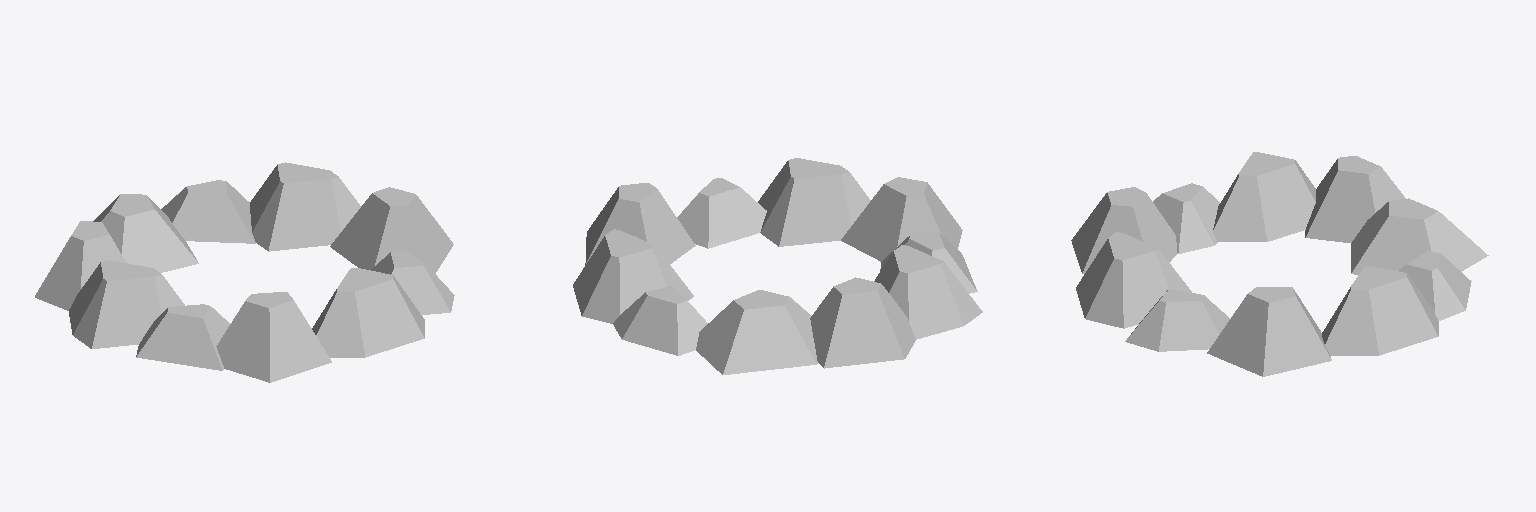
File: campfire_stones.obj
3 views of the same model, side by side, from view 1: azimuth 30°, elevation 25°; view 2: azimuth 150°, elevation 25°; view 3: azimuth 270°, elevation 25° (orthographic).
Parts seen in each view (by area): view 1: campfire_stones; view 2: campfire_stones; view 3: campfire_stones.
Part boxes in pixels (left/top/right/bottom): campfire_stones: left=35, top=162, right=454, bottom=382; campfire_stones: left=573, top=158, right=982, bottom=374; campfire_stones: left=1071, top=152, right=1488, bottom=376.
Bounding box in the file's own units: 0.5408 × 0.0778 × 0.5155.